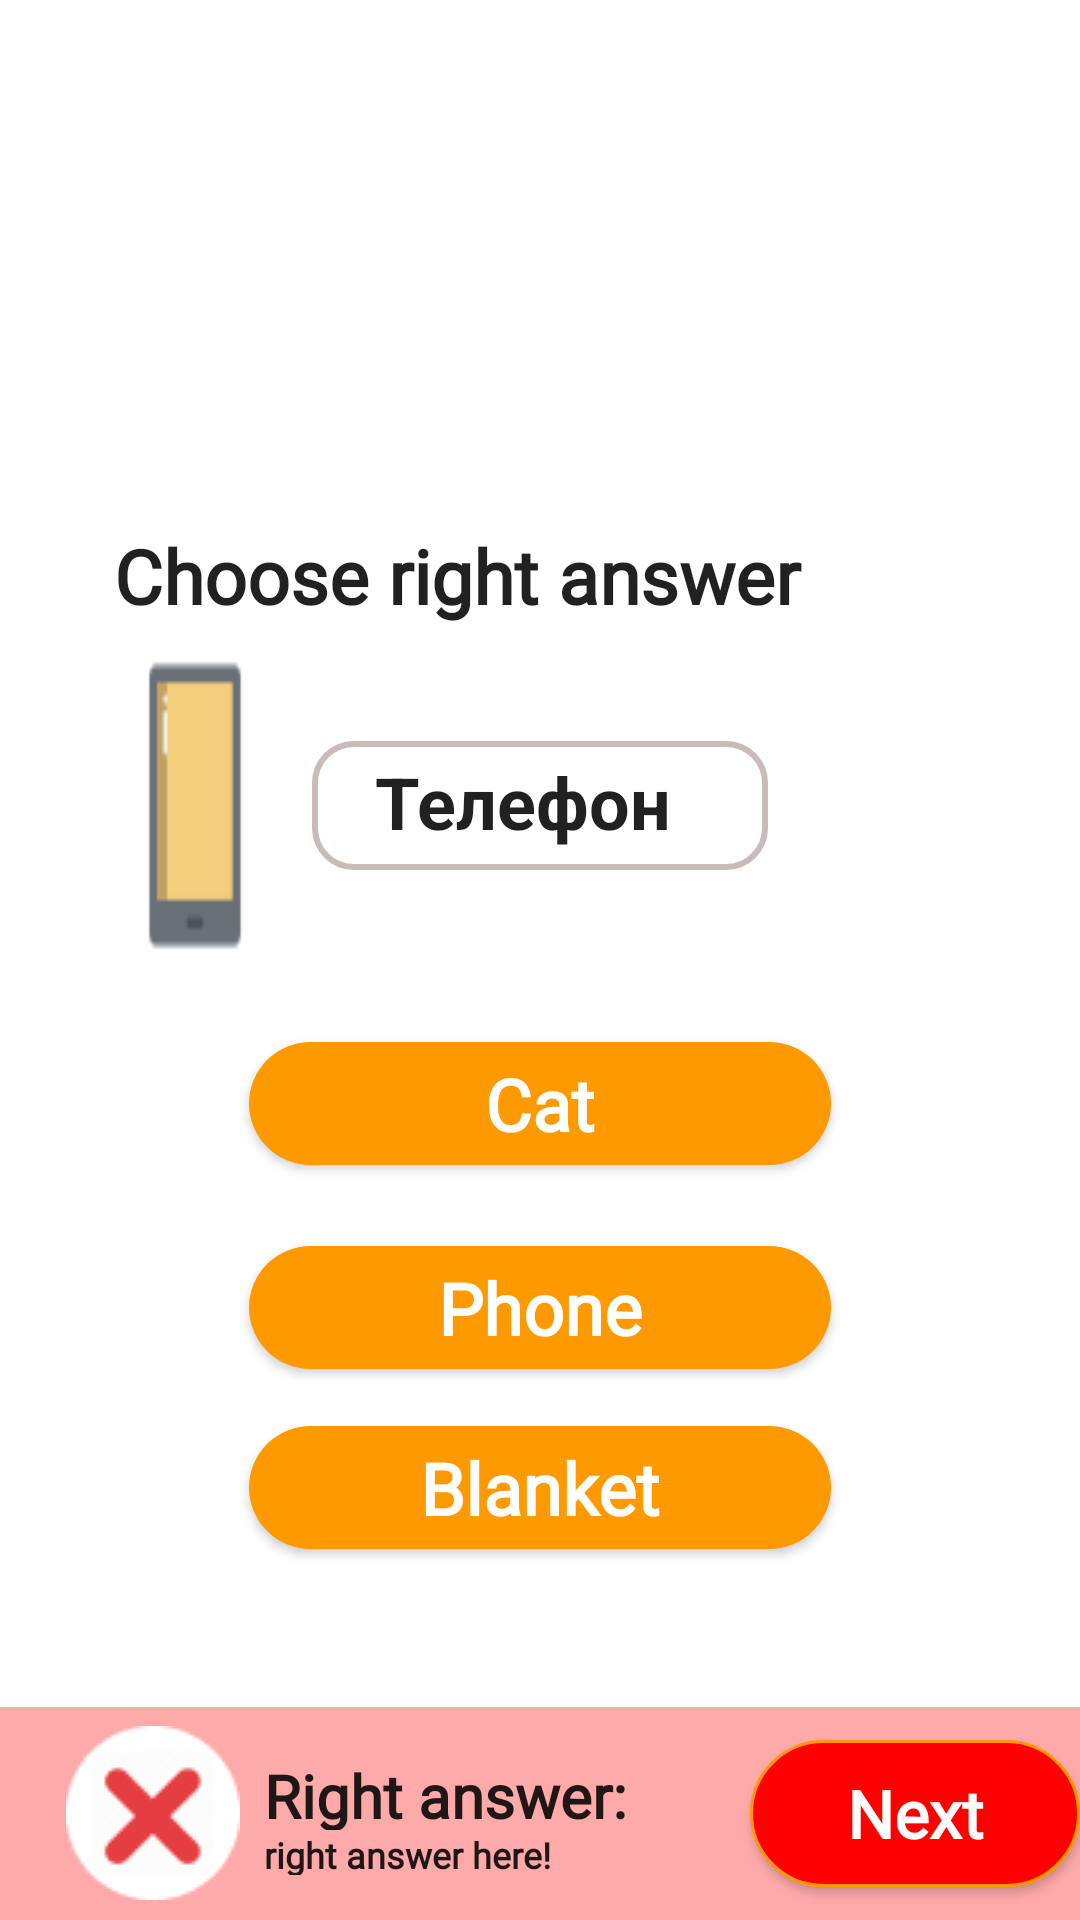

Named icons in this screenshot (1080 x 1920) and their centers, [x,y]:
wrongg: [153,1813]
